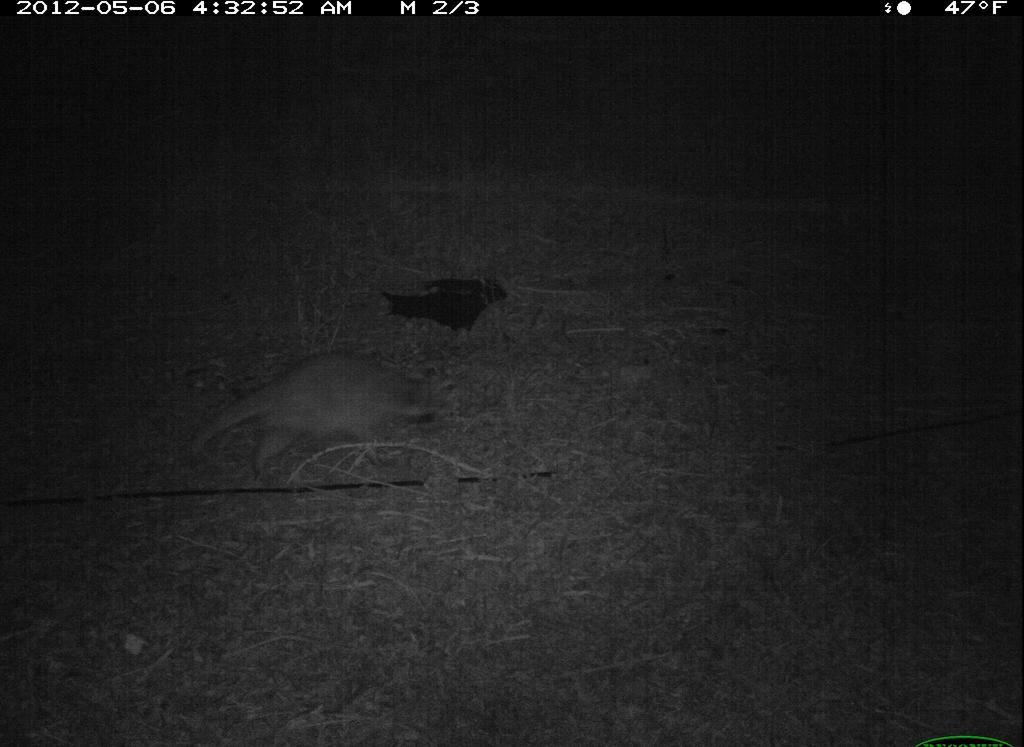raccoon: (189, 344, 460, 492)
